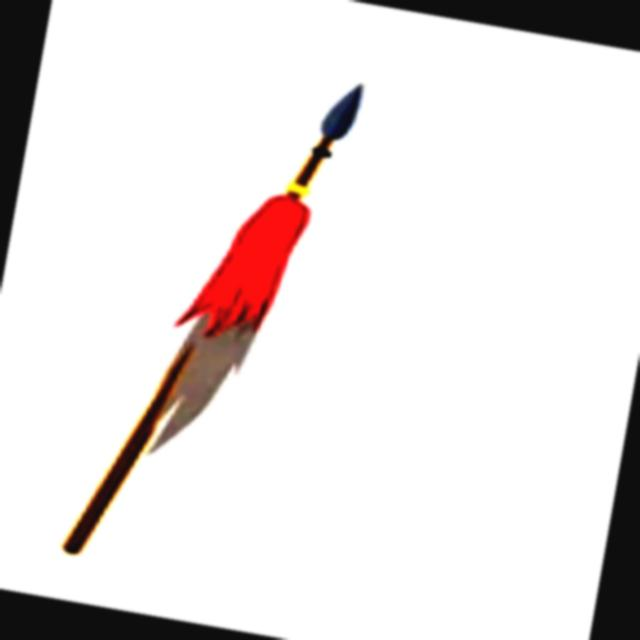spear: (63, 34, 374, 594)
